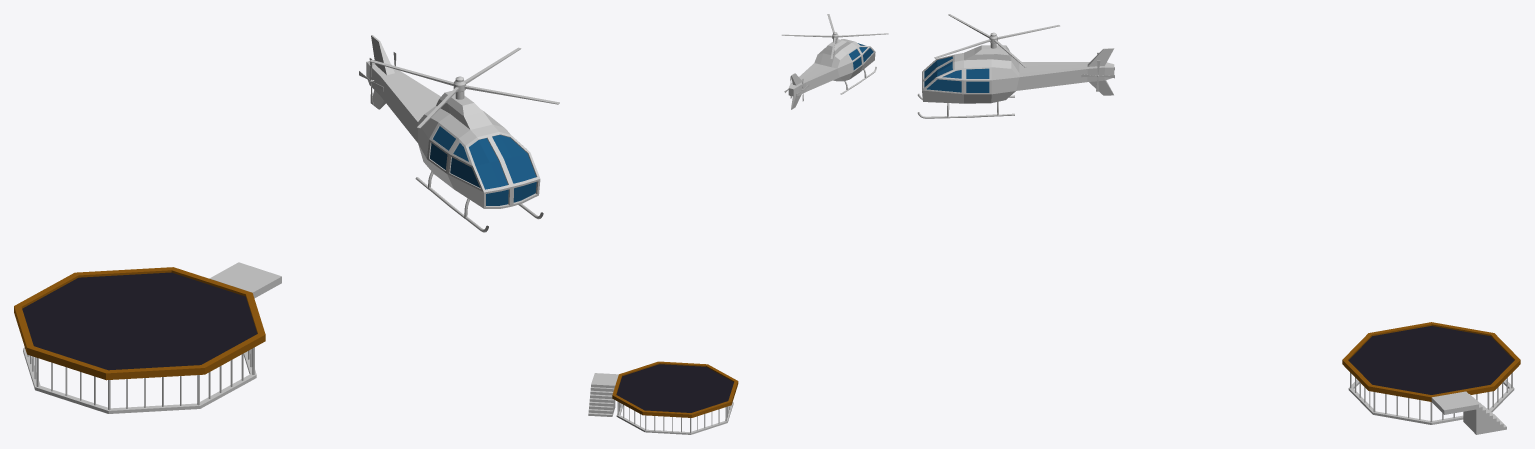
Rendered from copter_000051.obj.
The picture shows the model from 3 angles, left to right: view 1: azimuth 30°, elevation 25°; view 2: azimuth 150°, elevation 25°; view 3: azimuth 270°, elevation 25°; orthographic projection. The views are drawn at different scales.
Visible parts, largest first — view 1: Cylinder.001_Cylinder.012, Helicopter.007_Cylinder.008, Helicopter.001_Cylinder.001, Cylinder.004; view 2: Cylinder.001_Cylinder.012, Helicopter.007_Cylinder.008, Helicopter.001_Cylinder.001; view 3: Cylinder.001_Cylinder.012, Helicopter.007_Cylinder.008, Helicopter.001_Cylinder.001.
Boxes of the visible parts, bbox=[...] form: Cylinder.001_Cylinder.012: bbox=[14, 262, 281, 413]; Helicopter.007_Cylinder.008: bbox=[366, 35, 543, 232]; Helicopter.001_Cylinder.001: bbox=[369, 47, 559, 128]; Cylinder.004: bbox=[126, 353, 243, 408]; Cylinder.001_Cylinder.012: bbox=[588, 361, 738, 434]; Helicopter.007_Cylinder.008: bbox=[788, 39, 876, 109]; Helicopter.001_Cylinder.001: bbox=[781, 14, 888, 59]; Cylinder.001_Cylinder.012: bbox=[1342, 322, 1520, 434]; Helicopter.007_Cylinder.008: bbox=[917, 45, 1114, 118]; Helicopter.001_Cylinder.001: bbox=[934, 14, 1059, 67].
Bounding box in the file's own units: 7.94 × 14.97 × 22.92.
